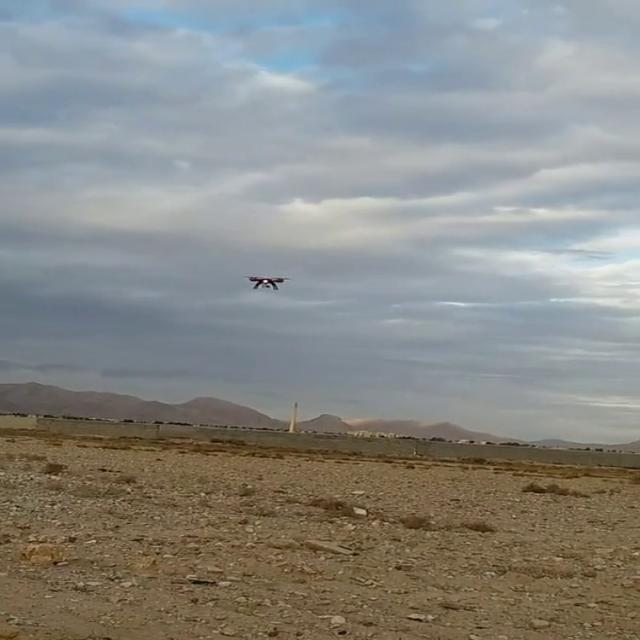drone: (242, 269, 293, 293)
